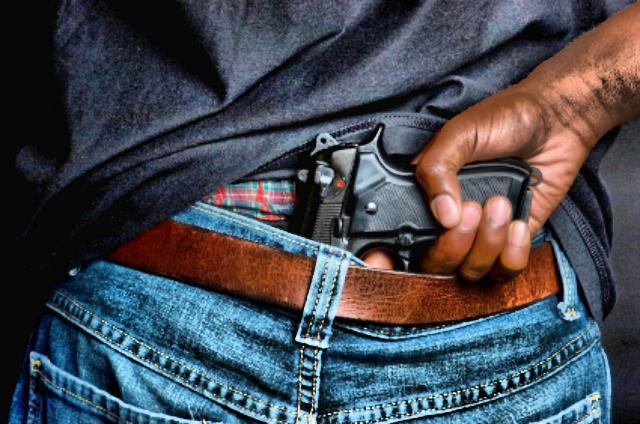pistol: (286, 122, 544, 326)
